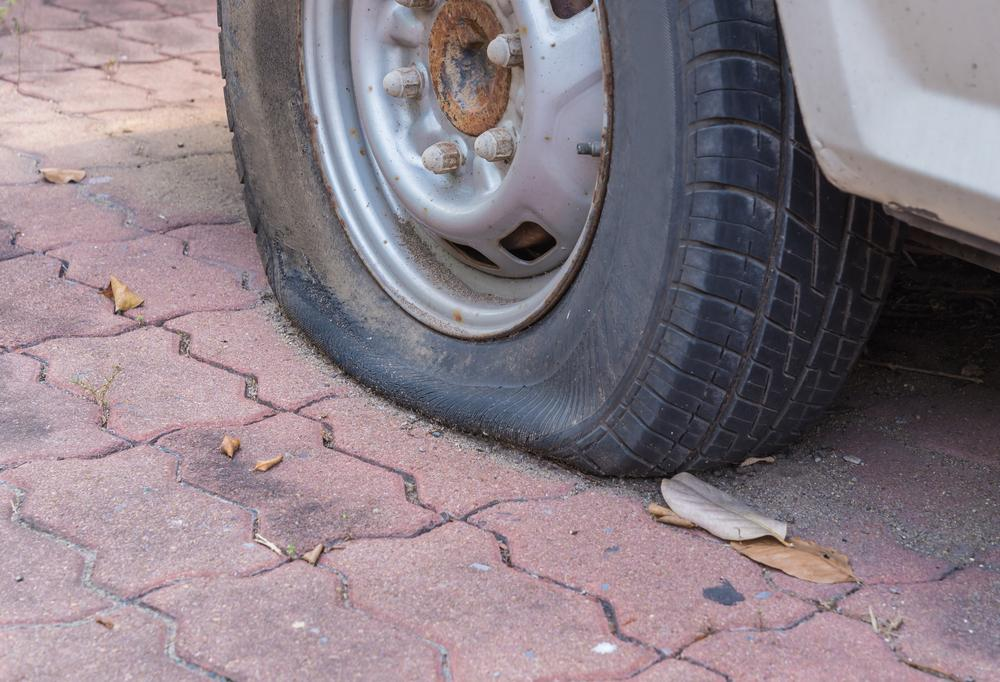tire flat: (217, 0, 898, 481)
